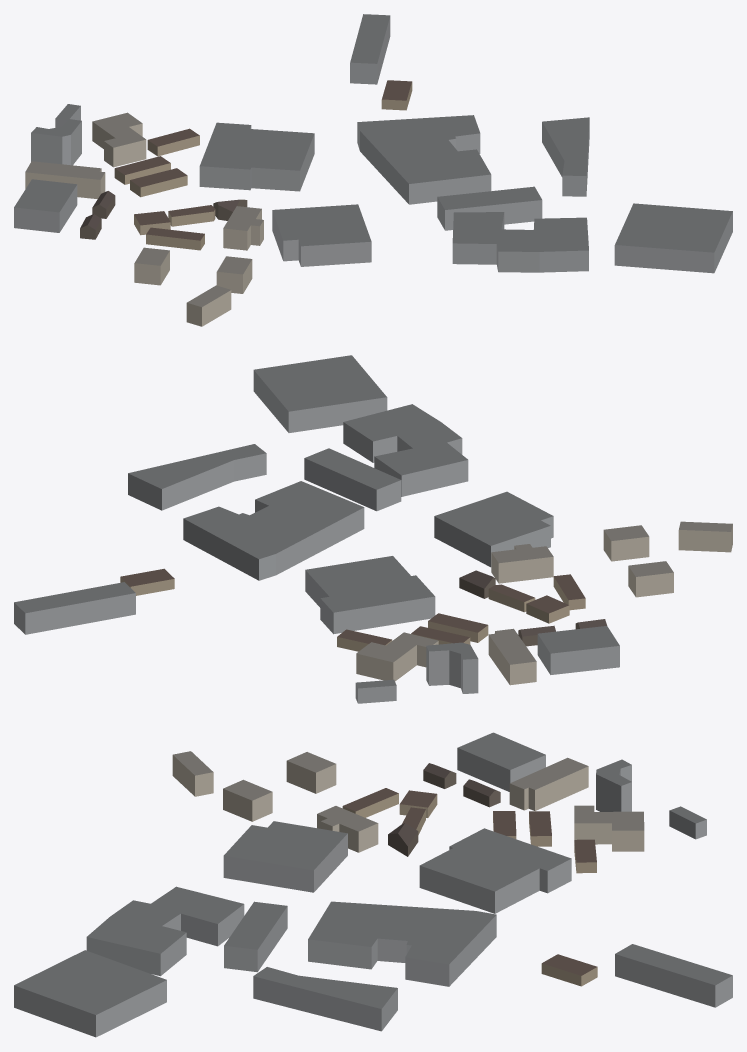
Rendered from tile_7_2.glb.
The picture shows the model from 3 angles, top to bottom: view 1: azimuth 30°, elevation 25°; view 2: azimuth 150°, elevation 25°; view 3: azimuth 270°, elevation 25°; orthographic projection. The views are drawn at different scales.
Visible parts, largest first — view 1: HP-w441877186, HP-w441873566, HP-w1467986572, HP-w441877188, HP-w441873536, HP-w745277155, HP-w441873549, HP-w745277157, HP-w441877184, HP-w1287058601, HP-w1233759503, HP-w745277156 (+11 smaller); view 2: HP-w441877186, HP-w441873566, HP-w1467986572, HP-w441877188, HP-w441873536, HP-w745277155, HP-w1287058601, HP-w441873549, HP-w745277157, HP-w441877184, HP-w1233759503, HP-w441877192 (+13 smaller); view 3: HP-w441877186, HP-w1467986572, HP-w441873566, HP-w441877188, HP-w441873536, HP-w745277155, HP-w1287058601, HP-w745277157, HP-w441873549, HP-w745277156, HP-w441877184, HP-w1233759503 (+14 smaller).
Part boxes in pixels (x1,y1,x2,y2): HP-w441877186: [357, 115, 491, 204]; HP-w441873566: [452, 212, 588, 272]; HP-w1467986572: [614, 203, 732, 273]; HP-w441877188: [199, 122, 314, 191]; HP-w441873536: [272, 204, 371, 266]; HP-w745277155: [542, 117, 589, 196]; HP-w441873549: [437, 186, 542, 230]; HP-w745277157: [14, 179, 77, 232]; HP-w441877184: [92, 112, 146, 167]; HP-w1287058601: [350, 14, 390, 84]; HP-w1233759503: [31, 119, 81, 165]; HP-w745277156: [25, 161, 105, 198]; HP-w441877186: [183, 481, 364, 580]; HP-w441873566: [343, 404, 468, 496]; HP-w1467986572: [253, 355, 387, 432]; HP-w441877188: [305, 556, 435, 634]; HP-w441873536: [434, 491, 553, 567]; HP-w745277155: [128, 444, 266, 510]; HP-w1287058601: [14, 582, 135, 634]; HP-w441873549: [304, 448, 401, 511]; HP-w745277157: [537, 626, 619, 674]; HP-w441877184: [356, 632, 438, 681]; HP-w1233759503: [426, 642, 478, 693]; HP-w441877192: [491, 544, 553, 583]; HP-w441877186: [308, 901, 496, 986]; HP-w1467986572: [14, 950, 166, 1037]; HP-w441873566: [86, 886, 244, 976]; HP-w441877188: [419, 828, 571, 913]; HP-w441873536: [223, 821, 347, 892]; HP-w745277155: [253, 967, 397, 1031]; HP-w1287058601: [615, 944, 732, 1007]; HP-w745277157: [457, 732, 545, 791]; HP-w441873549: [224, 901, 287, 972]; HP-w745277156: [509, 757, 588, 810]; HP-w441877184: [574, 805, 644, 851]; HP-w1233759503: [596, 759, 631, 811].
Size of the model in its own units: 515 by 30.4 by 553.
